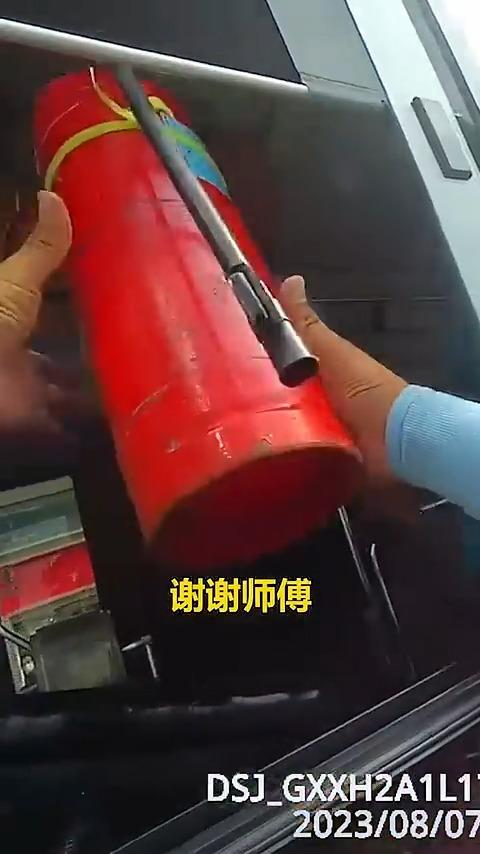FireExtinguisher: (2, 38, 371, 581)
